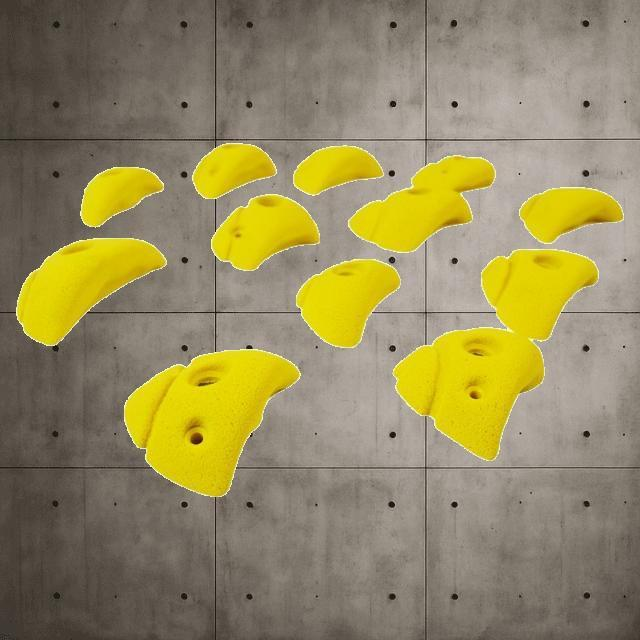Jug: (124, 348, 300, 496), (393, 327, 545, 461), (16, 237, 166, 345), (480, 248, 598, 340), (296, 258, 400, 348), (210, 194, 320, 270), (348, 187, 472, 253), (518, 187, 624, 243), (80, 166, 164, 227), (192, 142, 276, 198), (293, 145, 383, 195), (411, 155, 495, 193)
